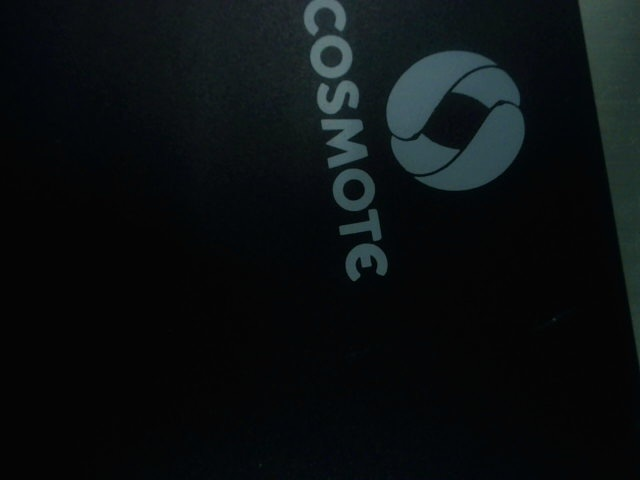AU_COSMOTE: (296, 4, 535, 284)
